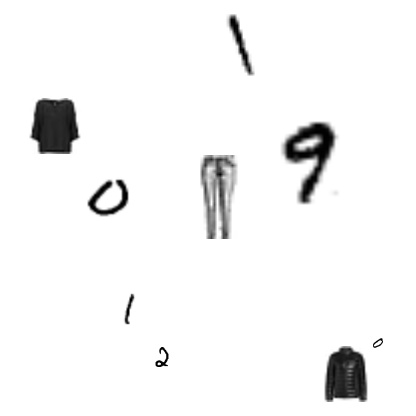0: (80, 170, 136, 226), (371, 336, 385, 350)
1: (197, 0, 281, 84), (107, 288, 149, 330)
2: (148, 344, 176, 372)
9: (254, 95, 366, 207)
Coat: (317, 346, 373, 402)
Shirt: (26, 98, 82, 154)
Trouser: (177, 155, 261, 239)
